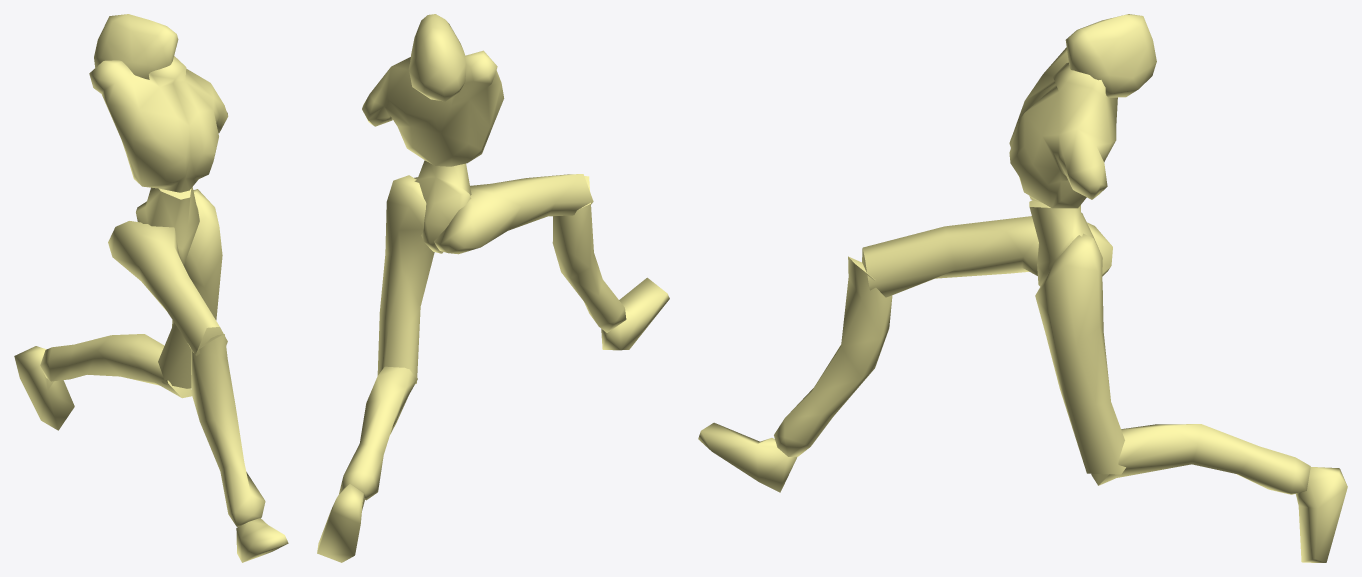
The model's file is filth27.obj.
3 renders of one model, left to right at view 1: azimuth 30°, elevation 25°; view 2: azimuth 150°, elevation 25°; view 3: azimuth 270°, elevation 25°, orthographic. The views are drawn at different scales.
Parts seen in each view (by area): view 1: Melee_Husk; view 2: Melee_Husk; view 3: Melee_Husk.
Boxes of the visible parts, <box> form: Melee_Husk: <box>14,14,288,562</box>; Melee_Husk: <box>317,14,669,562</box>; Melee_Husk: <box>698,14,1347,562</box>.
Bounding box in the file's own units: 20.04 × 65.43 × 70.92.
